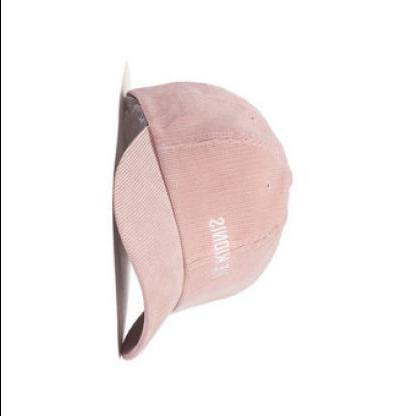cap: (104, 74, 299, 376)
